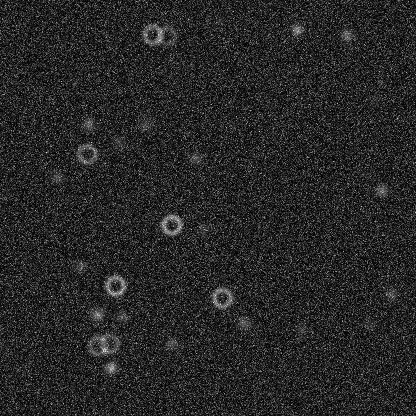Ring: (159, 212, 183, 236), (103, 273, 127, 297), (74, 141, 98, 165), (85, 333, 109, 357), (140, 22, 164, 46), (154, 23, 178, 47), (210, 285, 234, 309), (96, 331, 120, 355)
Spot: (211, 10, 227, 26), (338, 27, 354, 43), (71, 258, 87, 274), (111, 135, 127, 151), (188, 150, 204, 166), (89, 306, 105, 322), (362, 315, 378, 331), (79, 116, 95, 132), (373, 182, 389, 198), (102, 359, 118, 375), (195, 221, 211, 237), (366, 92, 382, 108), (293, 321, 309, 337), (235, 315, 251, 331), (137, 116, 153, 132), (49, 168, 65, 184), (163, 335, 179, 351), (289, 21, 305, 37), (383, 285, 399, 301), (113, 308, 129, 324)
